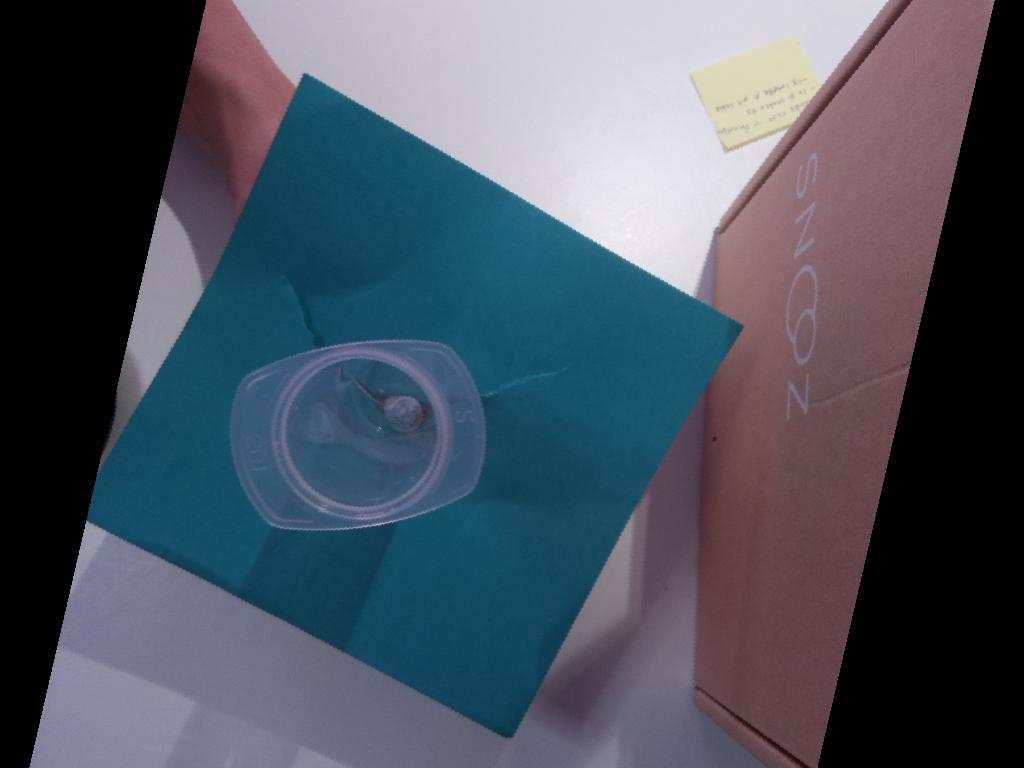clean: (228, 340, 487, 534)
